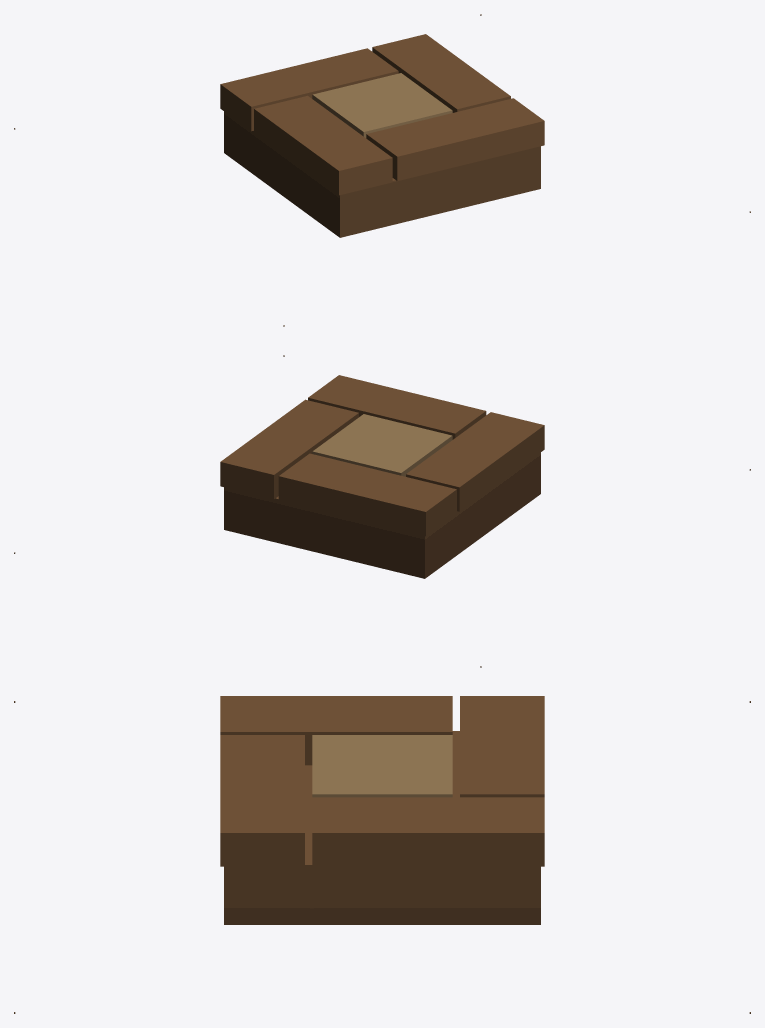
Rendered from floor_wood.glb.
The picture shows the model from 3 angles, top to bottom: view 1: azimuth 30°, elevation 25°; view 2: azimuth 150°, elevation 25°; view 3: azimuth 270°, elevation 25°; orthographic projection. The views are drawn at different scales.
Bounding box in the file's own units: 1 × 0.14 × 1.
Materials: 1 (1 with a texture image).
